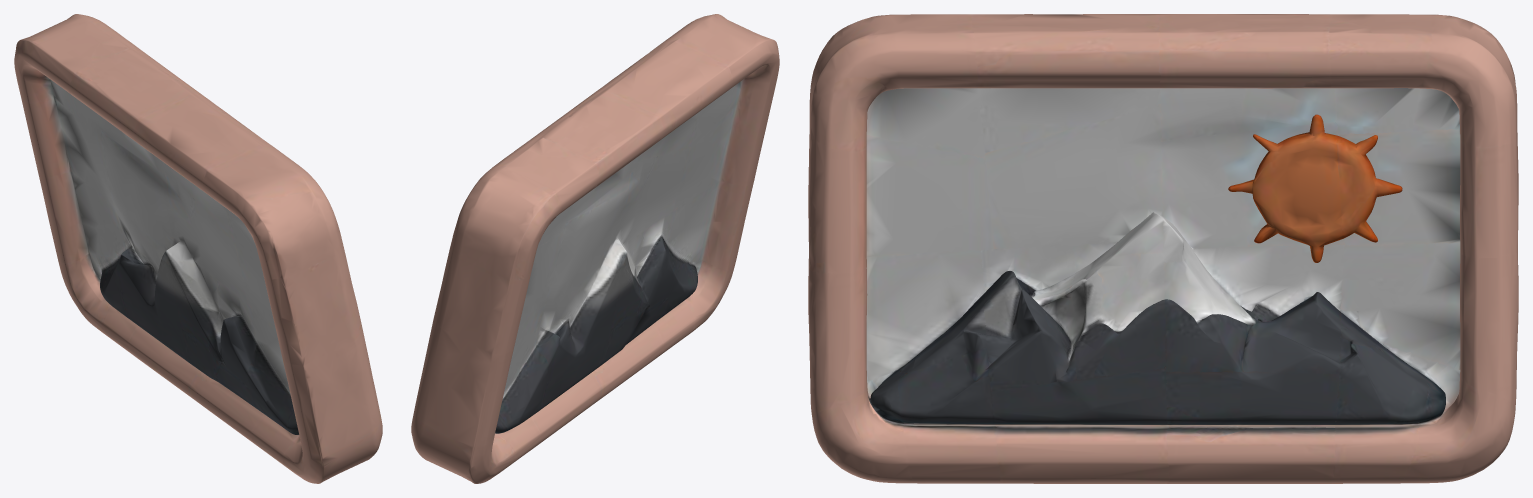
Rendered from ic-image.glb.
3 views of the same model, side by side, from view 1: azimuth 30°, elevation 25°; view 2: azimuth 150°, elevation 25°; view 3: azimuth 270°, elevation 25° (orthographic). The views are drawn at different scales.
Visible parts, largest first — view 1: tripo_node_9dd12070-7108-450b-b252-874a34ff943f; view 2: tripo_node_9dd12070-7108-450b-b252-874a34ff943f; view 3: tripo_node_9dd12070-7108-450b-b252-874a34ff943f.
Boxes of the visible parts, bbox=[...] form: tripo_node_9dd12070-7108-450b-b252-874a34ff943f: bbox=[14, 14, 382, 483]; tripo_node_9dd12070-7108-450b-b252-874a34ff943f: bbox=[411, 14, 779, 483]; tripo_node_9dd12070-7108-450b-b252-874a34ff943f: bbox=[808, 14, 1518, 483].
Bounding box in the file's own units: 0.0883 × 0.2 × 0.3035.
1 material, 1 textured.
